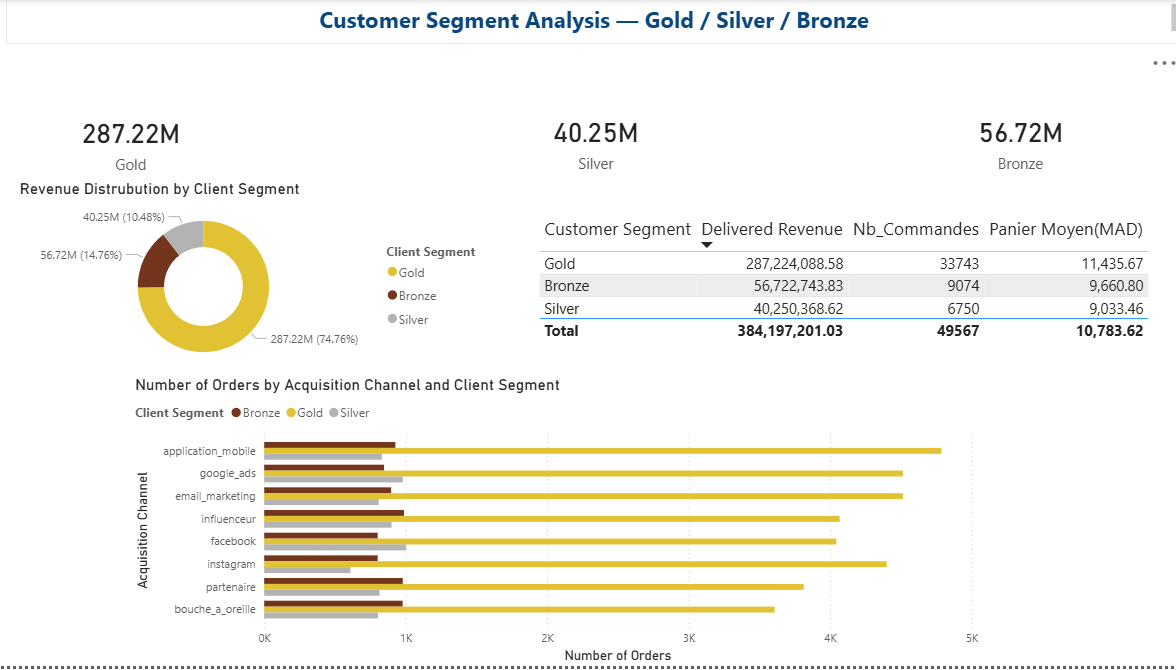

What the dashboard file says about the page in this screenshot:
{"tool":"powerbi","page":{"name":"Segments Clients","canvas":[1280,720],"ordinal":2},"visuals":[{"type":"textbox","box":[434.3,0,640.9,89.5],"z":0},{"type":"donutChart","fields":{"Category":["DIM_CLIENT.segment_client"],"Y":["FAIT_VENTES.CA Livré"]},"box":[26,234.2,554.7,209.8],"z":1000},{"type":"tableEx","fields":{"Values":["FAIT_VENTES.CA Livré","FAIT_VENTES.Nb Commandes","FAIT_VENTES.Panier Moyen","DIM_CLIENT.segment_client"]},"box":[722.2,234.2,538.4,209.8],"z":2000},{"type":"card","fields":{"Values":["FAIT_VENTES.CA Gold"]},"box":[26,71.6,351.3,136.6],"z":3000},{"type":"card","fields":{"Values":["FAIT_VENTES.CA Silver"]},"box":[377.4,71.6,287.9,151.3],"z":4000},{"type":"card","fields":{"Values":["FAIT_VENTES.CA Bronze"]},"box":[793.8,89.5,328.6,118.7],"z":5000},{"type":"clusteredBarChart","fields":{"Category":["DIM_CLIENT.canal_acquisition"],"Series":["DIM_CLIENT.segment_client"],"Y":["FAIT_VENTES.Nb Commandes"]},"box":[136.6,444,985.7,276.5],"z":6000}]}

Visuals, with their boxes in screenshot pixels (x1, y1, x2, y2), scaled from the page's 1280x720 canvas onto the 1176x670 screenshot:
textbox: <bbox>399, 0, 988, 83</bbox>
donutChart - DIM_CLIENT.segment_client x FAIT_VENTES.CA Livré: <bbox>24, 218, 534, 413</bbox>
tableEx - FAIT_VENTES.CA Livré x FAIT_VENTES.Nb Commandes: <bbox>664, 218, 1158, 413</bbox>
card - FAIT_VENTES.CA Gold: <bbox>24, 67, 347, 194</bbox>
card - FAIT_VENTES.CA Silver: <bbox>347, 67, 611, 207</bbox>
card - FAIT_VENTES.CA Bronze: <bbox>729, 83, 1031, 194</bbox>
clusteredBarChart - DIM_CLIENT.canal_acquisition x DIM_CLIENT.segment_client: <bbox>126, 413, 1031, 669</bbox>
